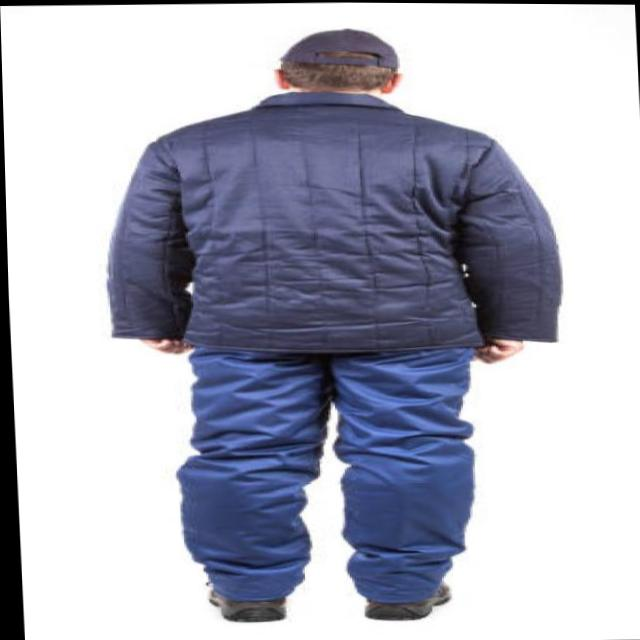no helmet: (254, 20, 420, 99)
